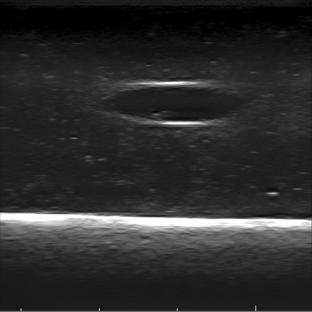vessel: (106, 80, 243, 128)
